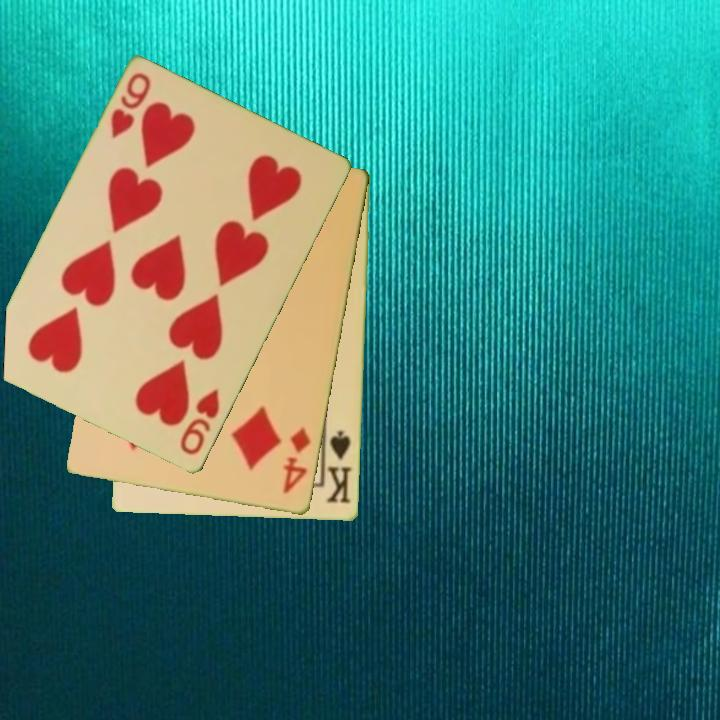4d: (280, 425, 314, 497)
9h: (176, 386, 223, 459), (107, 69, 154, 142)
Ks: (321, 427, 355, 506)
